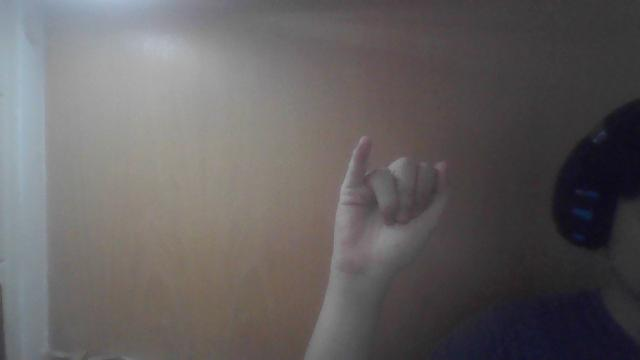Right: (326, 140, 456, 276)
